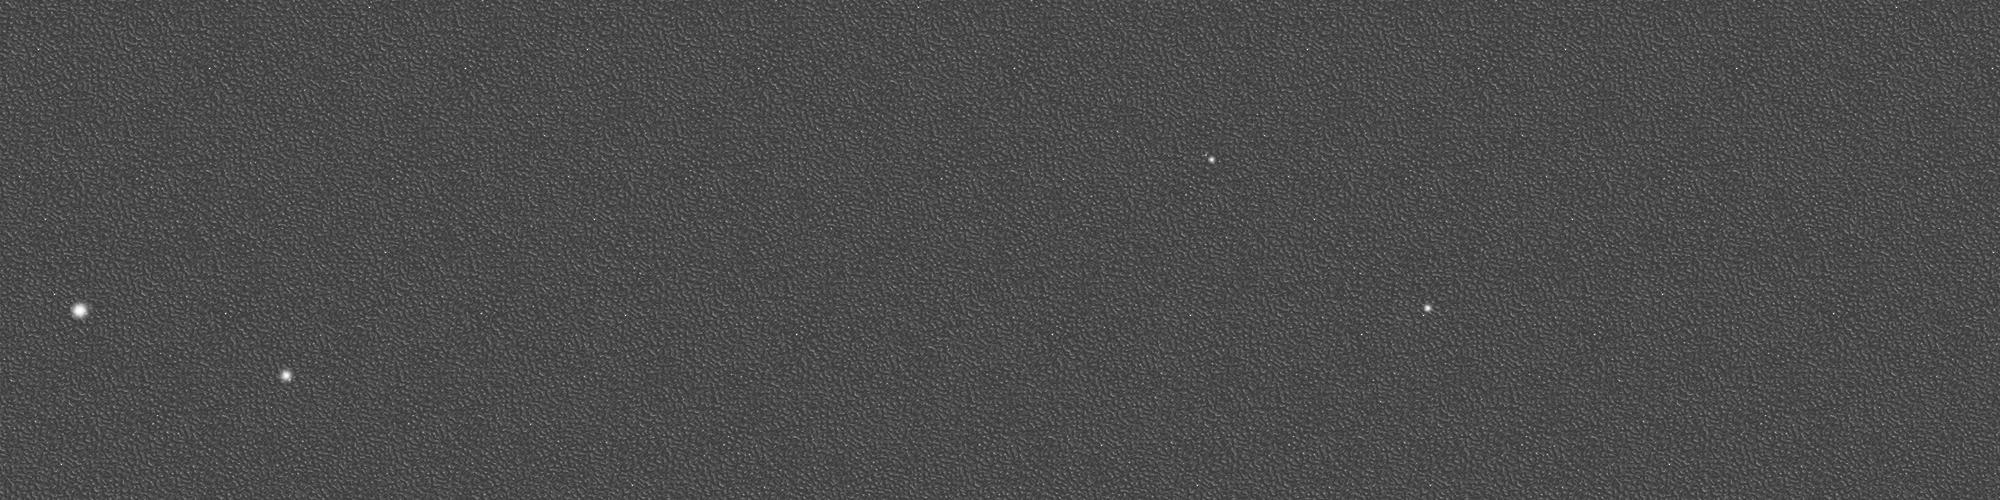Particles: (66, 298, 93, 324), (274, 366, 296, 386), (1418, 302, 1435, 318), (1204, 153, 1222, 166)
